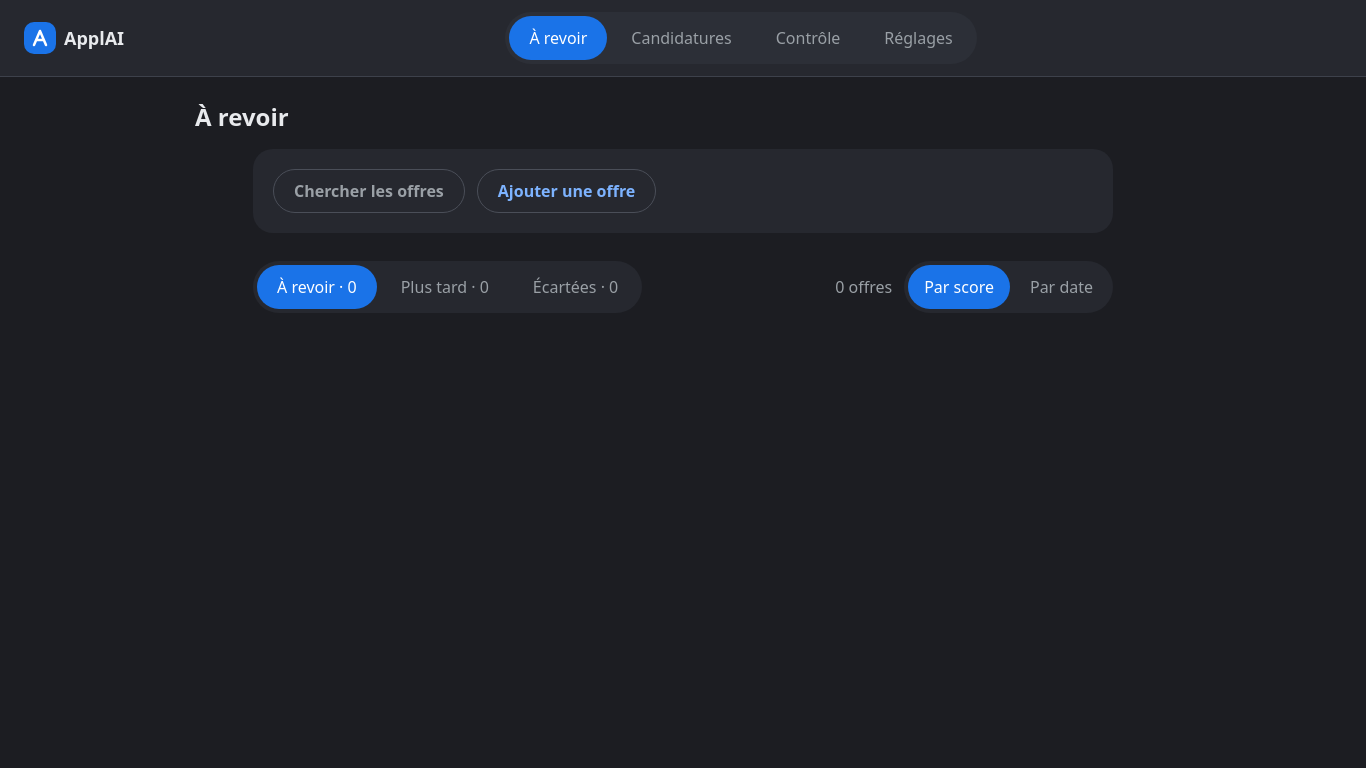
the trace of an application › shows a run that has not ended as running, not failed
The width and height of the screenshot is (1366, 768).
Click the button "Candidatures" at x=682, y=38, box [611,16,752,60]
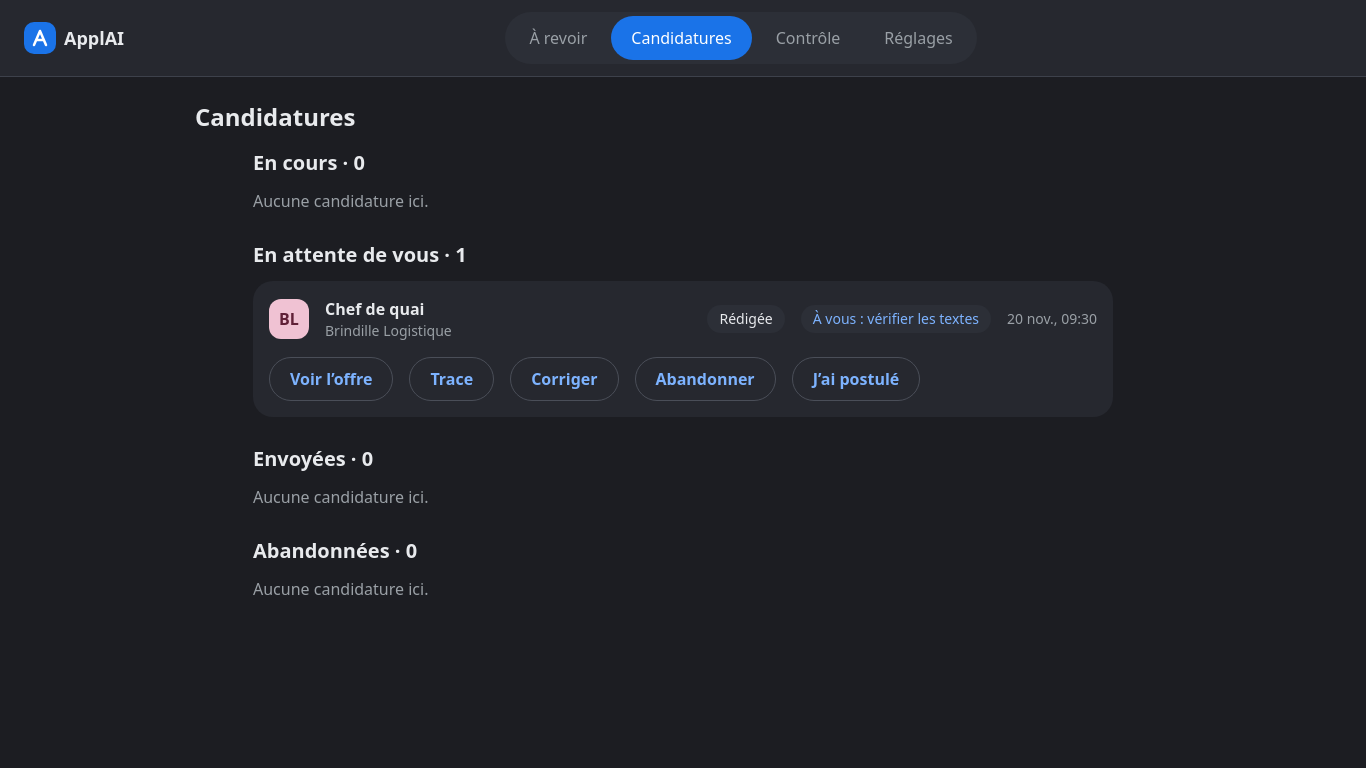
Click the button "Trace" at x=452, y=379, box [409,357,494,401]
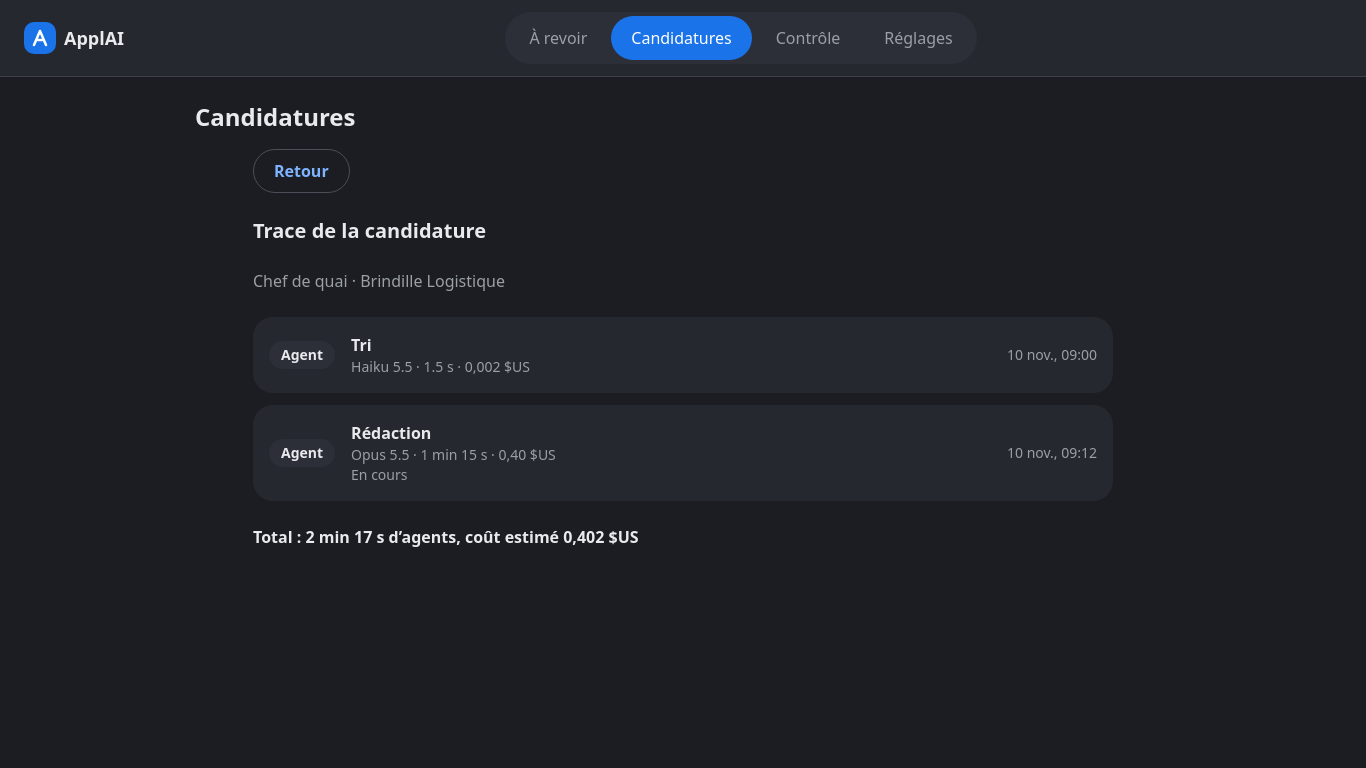
Expected: the list item "Rédaction" shows "En cours", [351,465,408,484]
